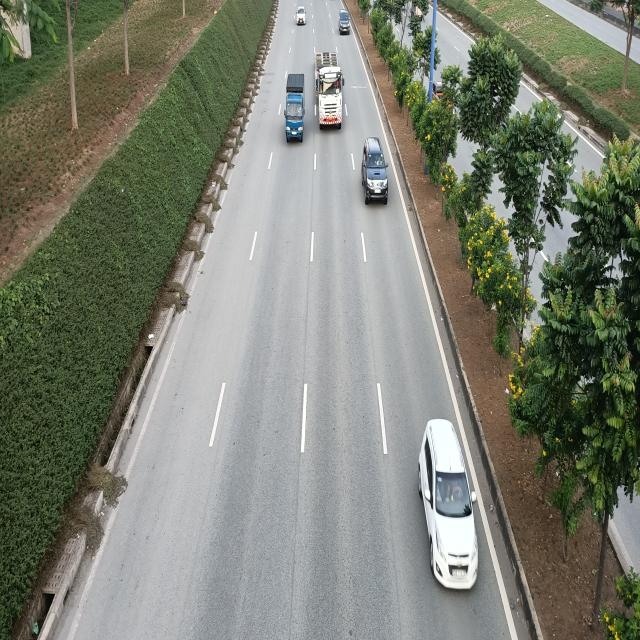car: (416, 418, 476, 588), (361, 136, 389, 202)
container: (315, 52, 346, 131)
truck: (284, 71, 305, 145)
